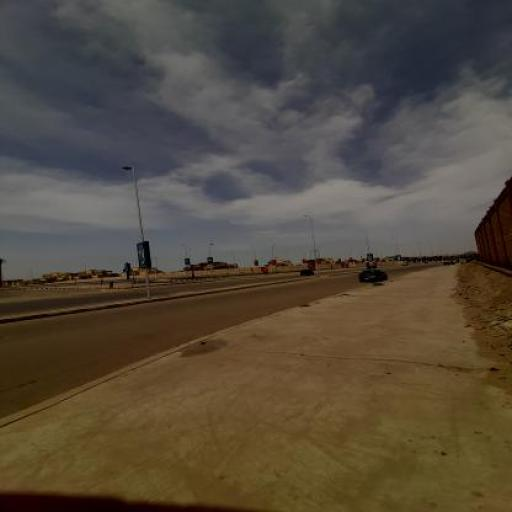street light: (122, 166, 152, 300), (304, 216, 319, 276), (360, 230, 372, 270), (392, 238, 400, 268), (251, 248, 259, 272), (209, 244, 214, 279), (416, 242, 423, 264), (272, 245, 276, 274), (349, 249, 354, 268)
